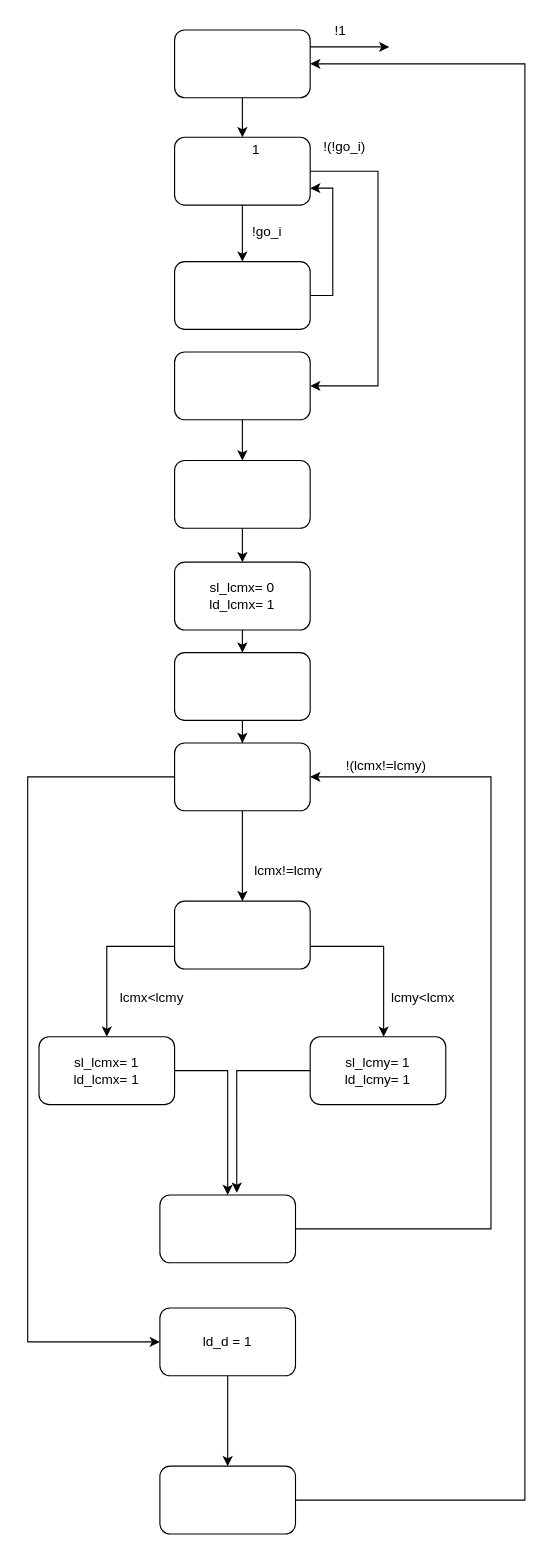
The diagram is 554 pixels wide and 1554 high, and some of its shapes have lost their labels. The shapes that lost their labels are listed below. From the top down, each one's centre as x and y in pixels, then its label:
point (241, 385): ld_x = 1
point (241, 493): ld_y = 1
point (241, 685): sl_lcmy= 0 ld_lcmy= 1
